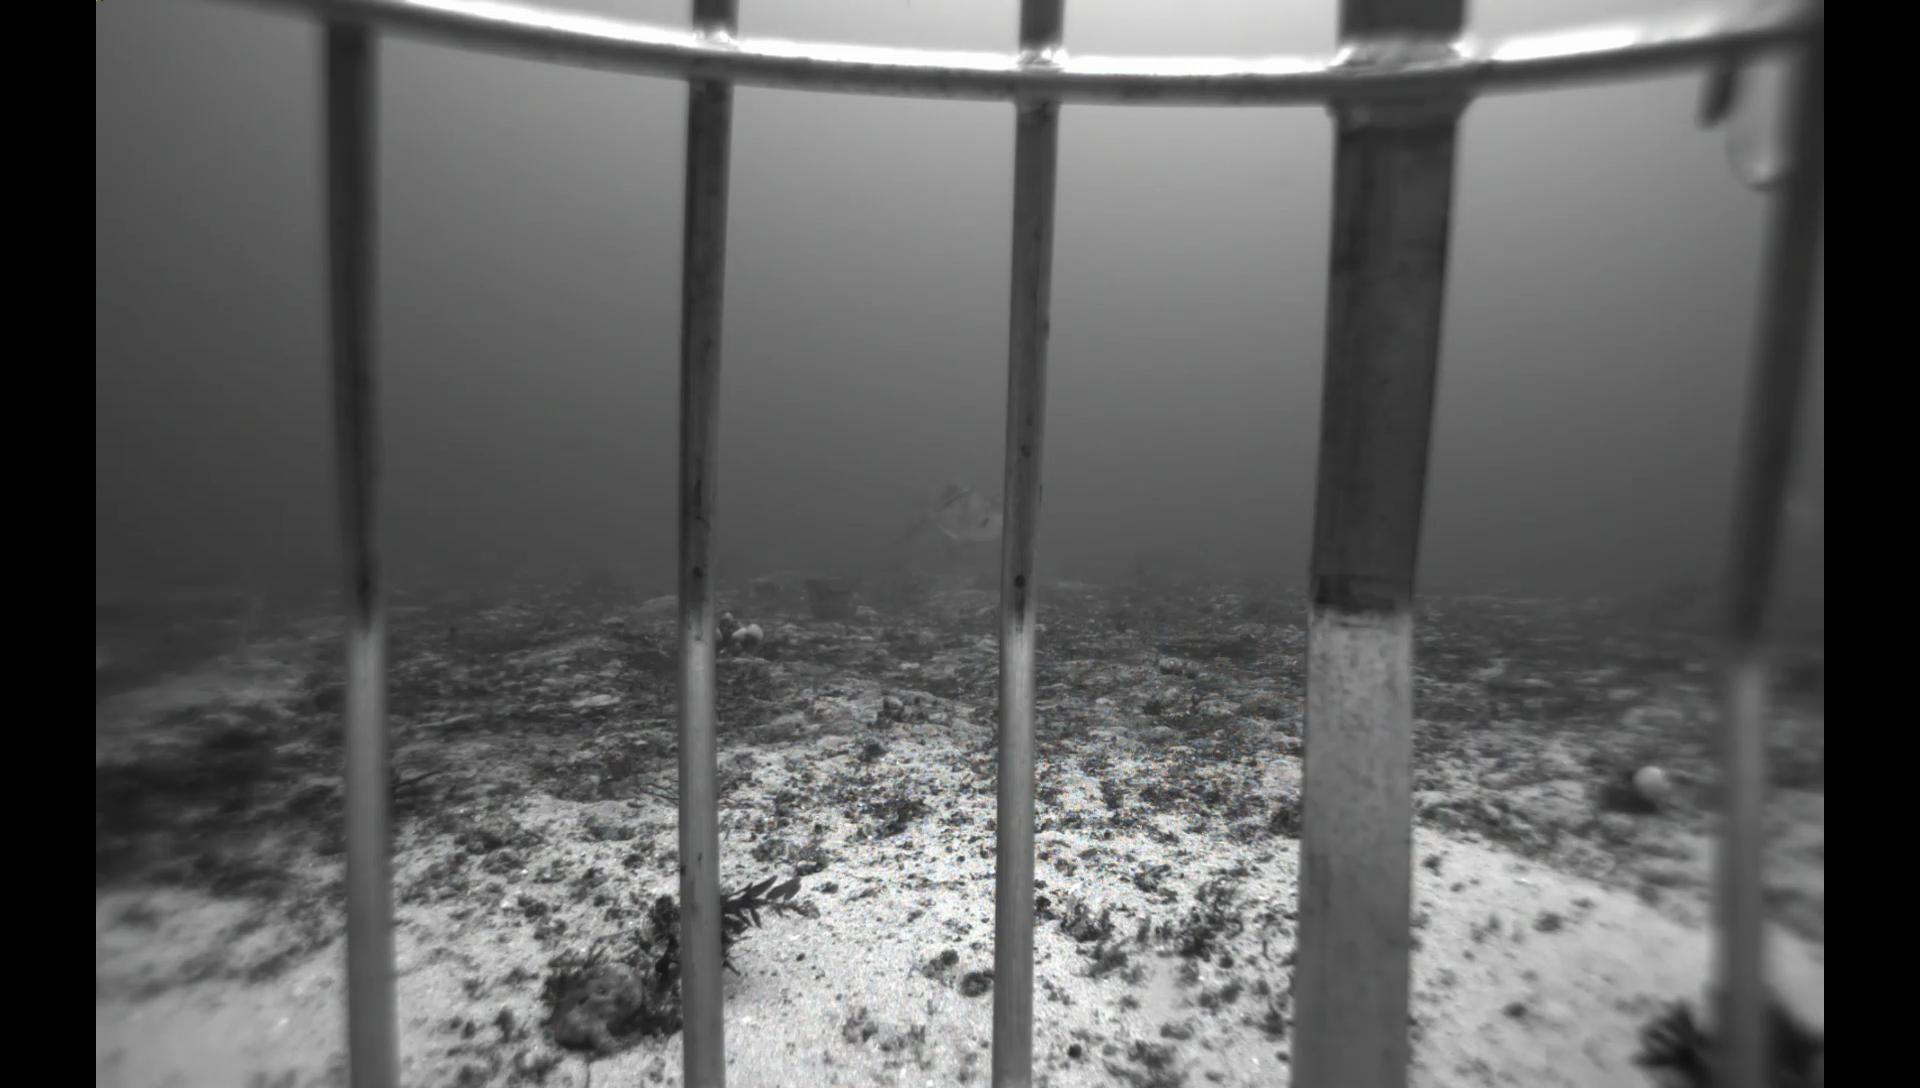BALISTESCAPRISCUS-189030502: (880, 477, 1004, 557)
PAGRUSPAGRUS-170212302: (1778, 476, 1822, 549)
PRISTIGENYSALTA-170050401: (302, 677, 344, 717)
